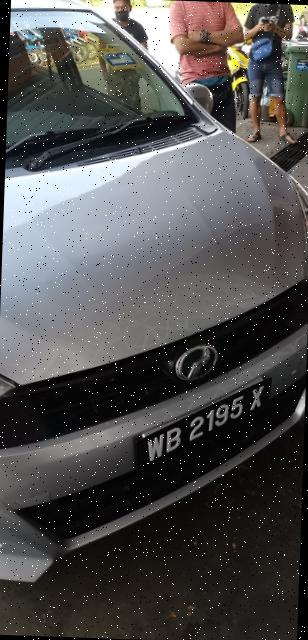License_Plate: (136, 373, 273, 479)
car: (1, 1, 308, 590)
